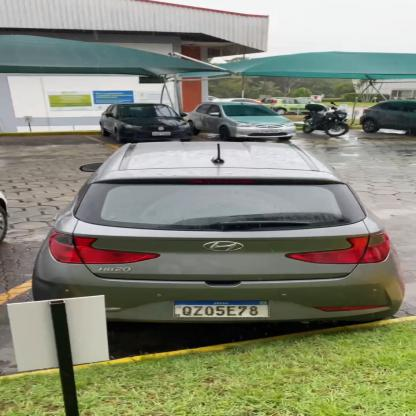Plate: (171, 296, 274, 322)
